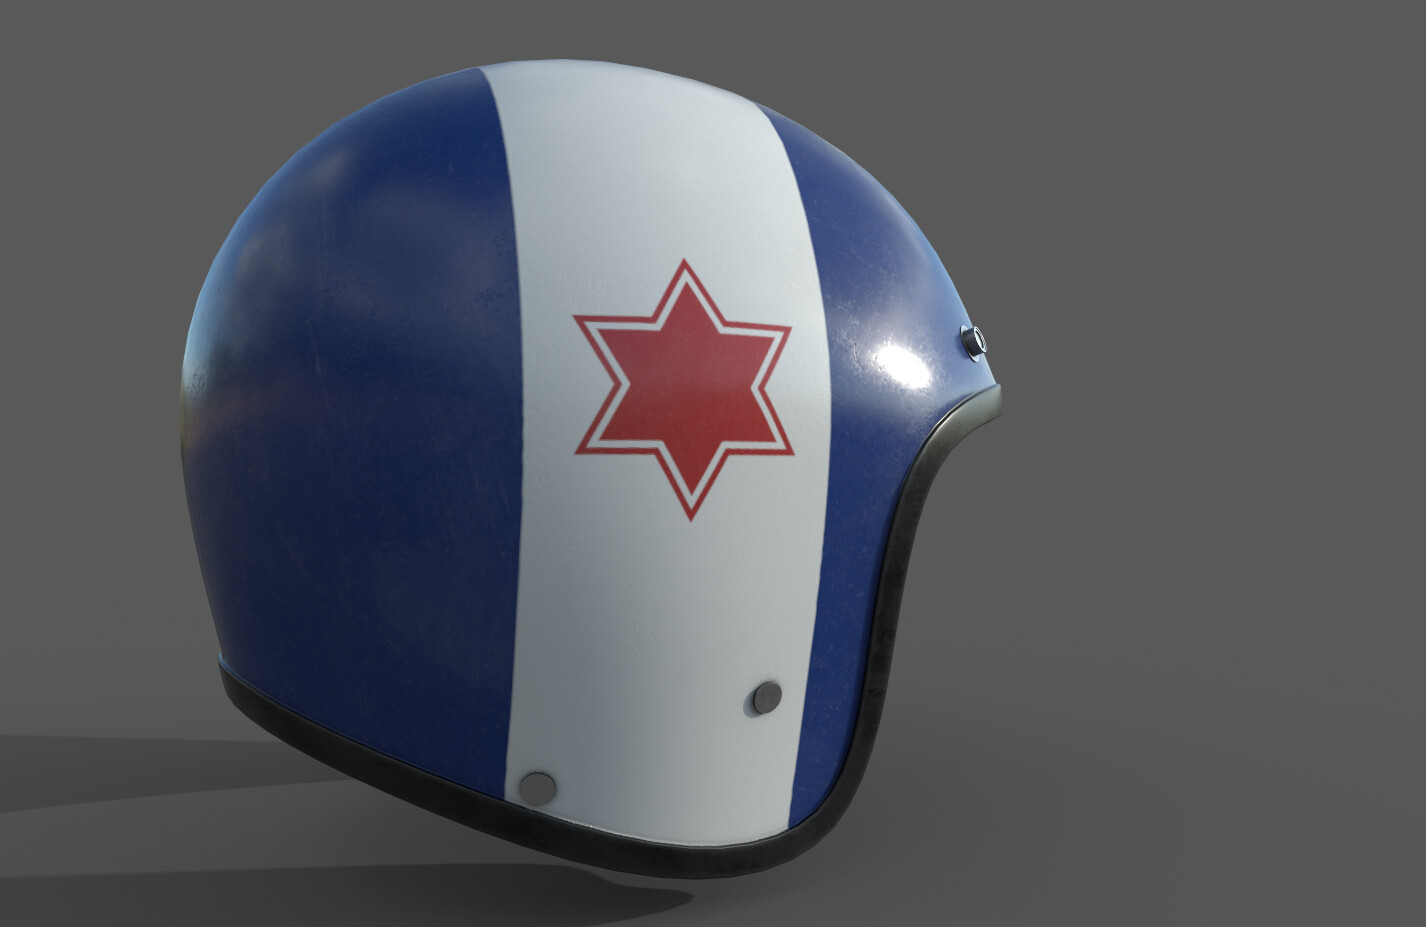with_helmet: (178, 60, 1022, 870)
